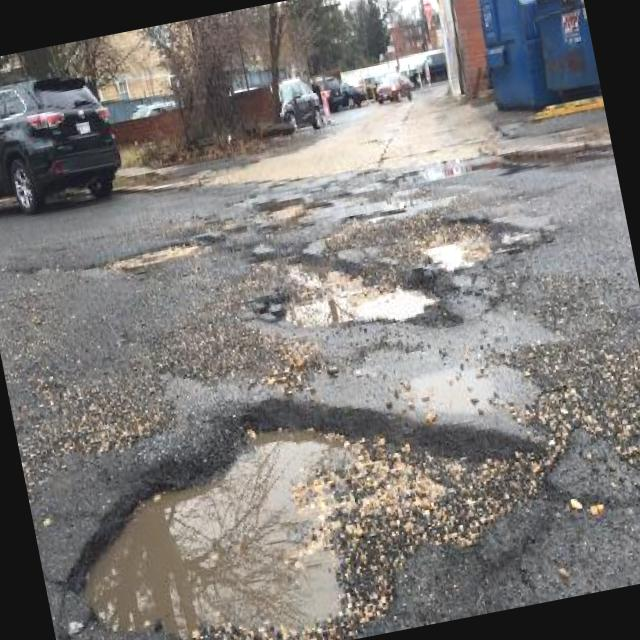Lubang: (85, 434, 541, 640), (252, 263, 439, 328), (419, 220, 498, 269), (111, 248, 199, 268), (257, 200, 305, 224)
